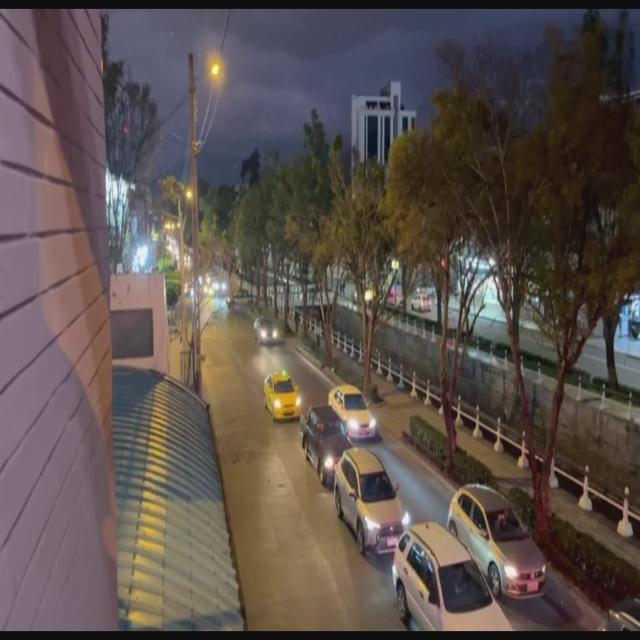CMT: (305, 404, 350, 479)
